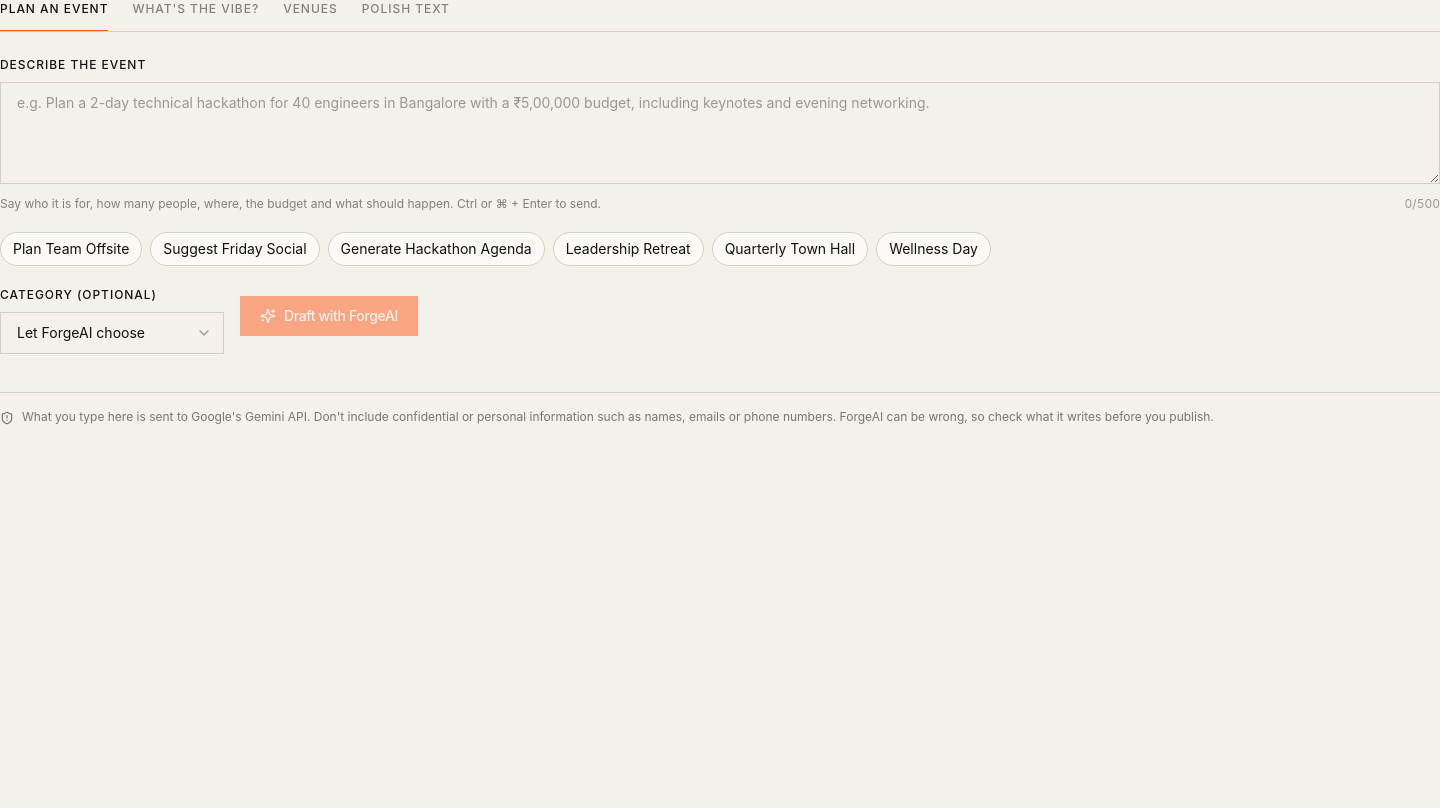
Test: ForgeAiPanel › Plan an event › is read-only when there is nothing to use the draft for
Type "A town hall" into the text box labelled "Describe the event" at (720, 133), box [0,82,1439,184]
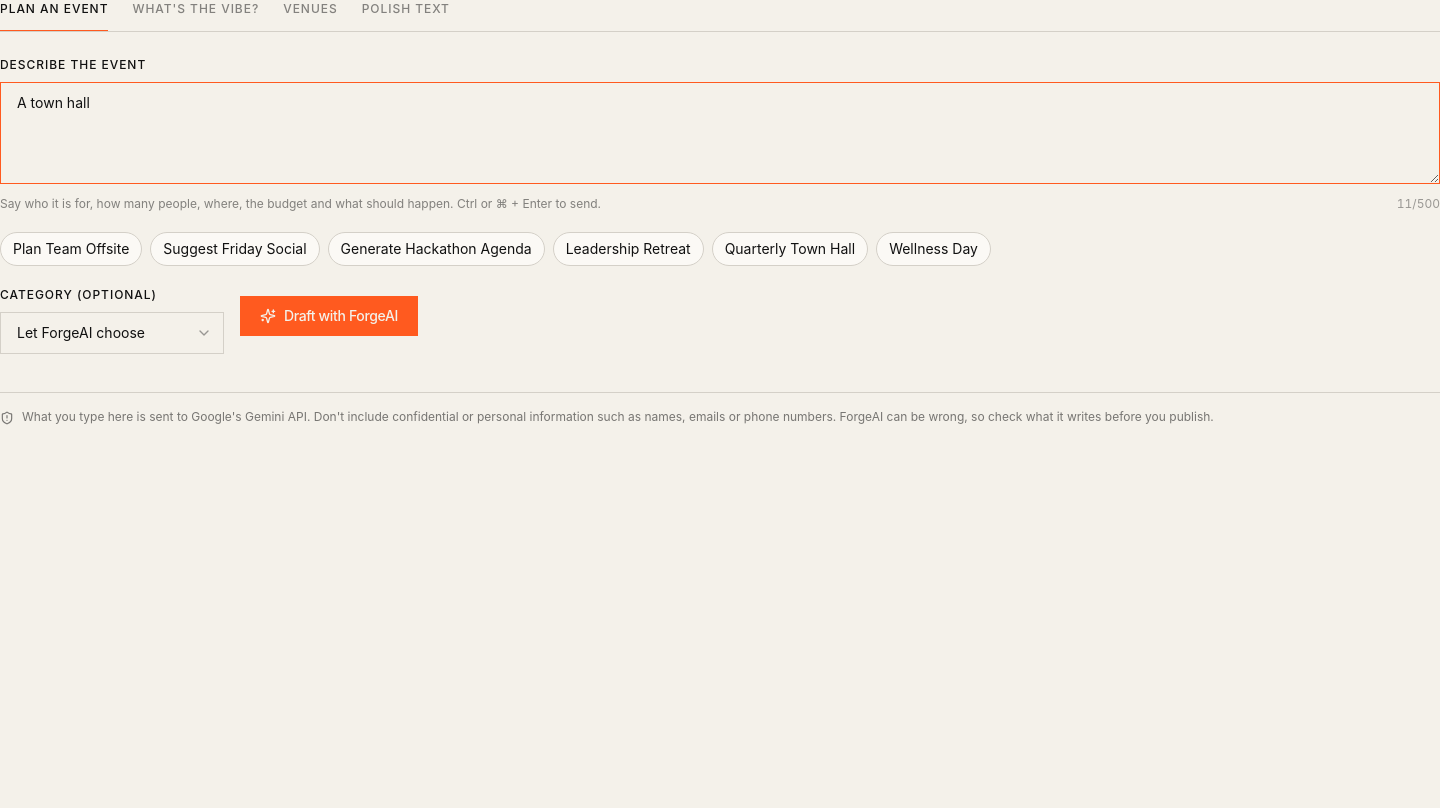
Click the button "Draft with ForgeAI" at (329, 316), box [240,296,418,336]
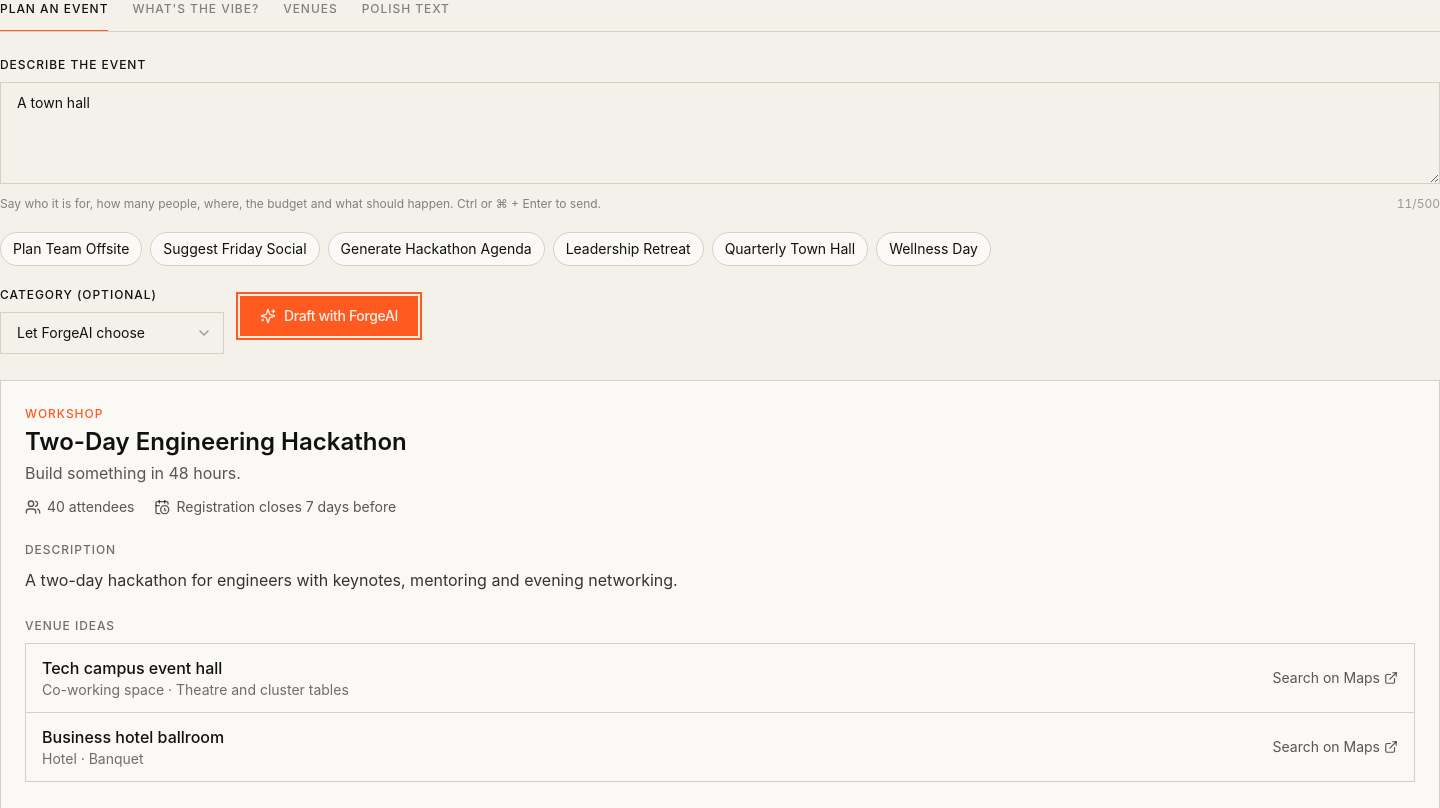
Check: the heading "Two-Day Engineering Hackathon" is shown, box [25,427,407,456]
